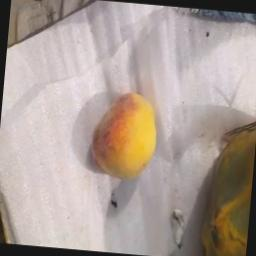Peach Unripe: (84, 80, 166, 188)
